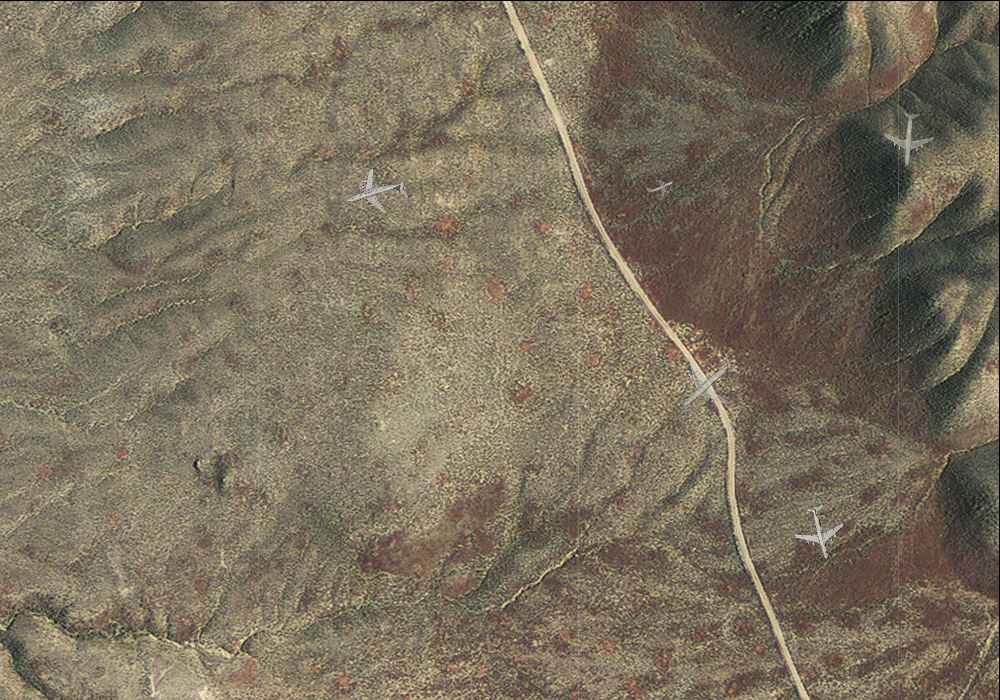plane: (662, 338, 755, 431), (338, 158, 413, 229), (789, 500, 852, 565), (882, 109, 937, 168), (642, 169, 677, 202)
